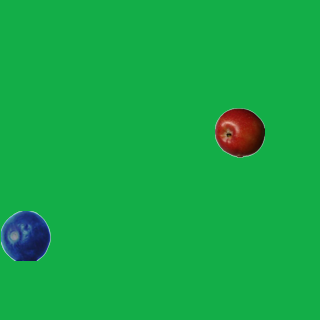Apple Braeburn: (214, 107, 264, 157)
Huckleberry: (0, 210, 50, 260)
